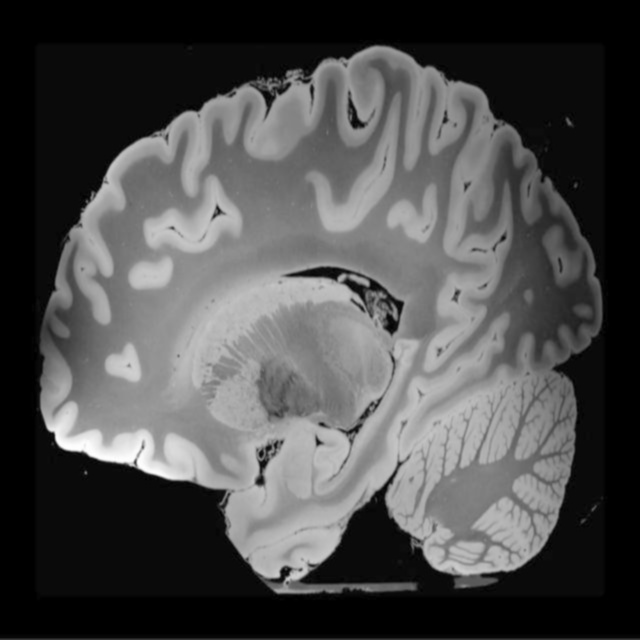glioma tumor: (133, 144, 511, 467)
